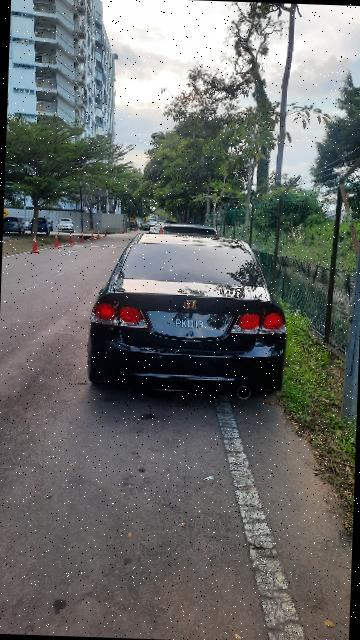License_Plate: (144, 308, 240, 347)
car: (86, 229, 293, 405)
